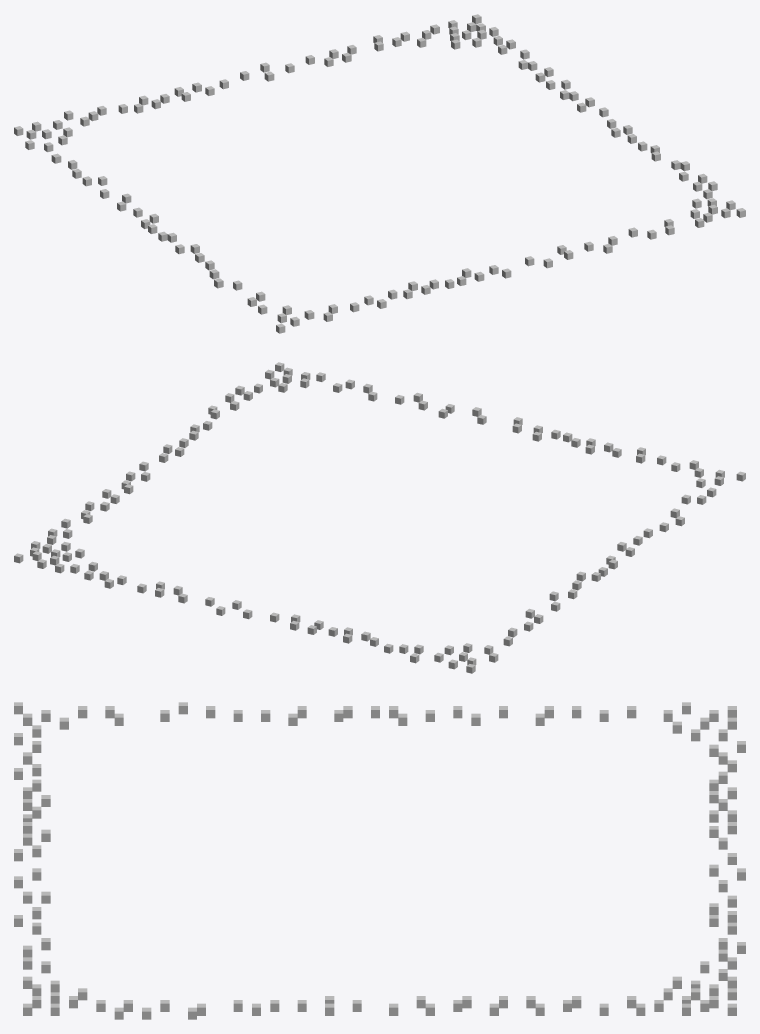
Rendered from snow_4_overtile.glb.
3 renders of one model, top to bottom at view 1: azimuth 30°, elevation 25°; view 2: azimuth 150°, elevation 25°; view 3: azimuth 270°, elevation 25°, orthographic. The views are drawn at different scales.
Parts seen in each view (by area): view 1: snow_4_overtile; view 2: snow_4_overtile; view 3: snow_4_overtile.
Part boxes in pixels (box(x1,y1,x2,y2)): snow_4_overtile: box(14, 14, 745, 333); snow_4_overtile: box(14, 362, 745, 673); snow_4_overtile: box(14, 702, 745, 1019).
Bounding box in the file's own units: 8 × 0.1 × 8.
Materials: 1 (1 with a texture image).
